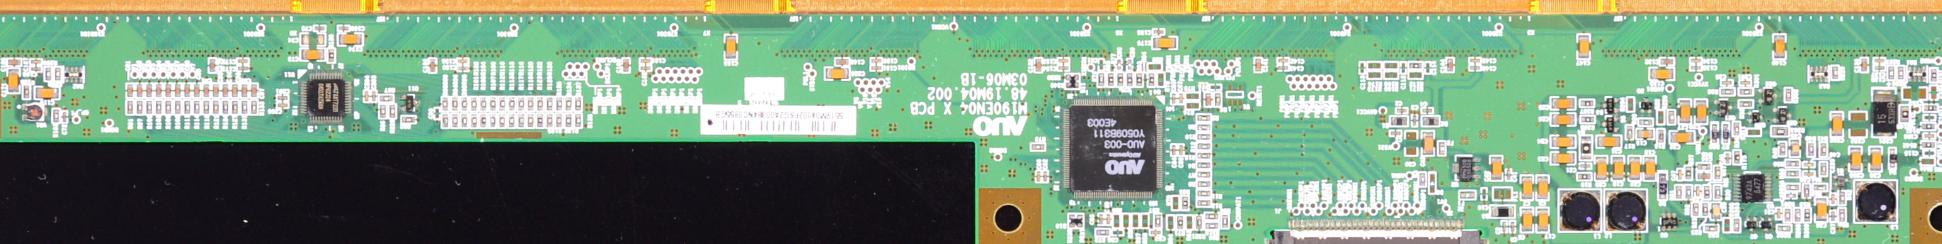Capacitor Jumper: (1829, 113, 1845, 142), (1772, 32, 1787, 62), (1549, 114, 1577, 129), (1577, 33, 1591, 61), (1421, 130, 1434, 159), (1152, 36, 1178, 51), (298, 32, 326, 46), (1849, 147, 1861, 177), (1869, 145, 1880, 177), (1595, 135, 1621, 149), (1610, 155, 1624, 181), (337, 32, 363, 46), (1518, 208, 1533, 232), (1648, 68, 1676, 81), (1551, 152, 1575, 166), (1814, 199, 1828, 224), (1549, 98, 1575, 110), (1629, 156, 1641, 182), (1537, 173, 1549, 199), (1521, 175, 1533, 201), (1536, 208, 1548, 234), (1678, 99, 1692, 123), (1694, 100, 1708, 124), (1644, 159, 1656, 183), (1489, 156, 1501, 180), (1549, 135, 1575, 146), (1595, 156, 1606, 181), (298, 50, 323, 61), (6, 68, 16, 92), (1790, 139, 1801, 157), (1670, 131, 1693, 140), (33, 88, 52, 98), (1635, 130, 1653, 139), (427, 57, 436, 74), (1660, 57, 1674, 67), (234, 54, 250, 63), (182, 84, 192, 98), (1697, 172, 1710, 182), (207, 58, 216, 73), (1095, 211, 1104, 225), (6, 58, 22, 66), (1860, 57, 1868, 73), (1255, 58, 1262, 74), (1445, 58, 1454, 72), (163, 83, 172, 97), (145, 83, 154, 97), (135, 83, 144, 97), (239, 84, 248, 98), (59, 111, 68, 125), (1274, 57, 1292, 63), (1873, 64, 1885, 73), (1719, 78, 1733, 85), (230, 83, 238, 97), (125, 84, 133, 98), (370, 88, 377, 104), (455, 58, 469, 64), (1205, 93, 1211, 108), (1411, 115, 1418, 128), (1177, 144, 1184, 156), (1725, 154, 1733, 166), (1034, 171, 1042, 183), (1693, 186, 1700, 198), (1104, 213, 1111, 225), (1509, 220, 1515, 235), (1469, 57, 1483, 63), (1871, 57, 1885, 63), (1689, 64, 1703, 71), (212, 83, 218, 97), (220, 83, 227, 97), (155, 84, 161, 98), (1921, 133, 1935, 139), (1501, 220, 1507, 234), (1277, 63, 1288, 71), (1357, 62, 1365, 73), (173, 85, 181, 97), (275, 102, 286, 109), (28, 58, 41, 64), (456, 66, 468, 72), (203, 84, 209, 97), (1395, 107, 1407, 113), (1802, 172, 1814, 178), (1829, 212, 1835, 224), (1421, 108, 1435, 113), (1116, 59, 1122, 71), (1126, 59, 1132, 71), (31, 66, 42, 72), (363, 92, 369, 103), (1177, 93, 1183, 104), (313, 25, 324, 31), (338, 25, 349, 31), (1688, 58, 1702, 63), (235, 67, 249, 72), (250, 84, 255, 98), (1831, 193, 1835, 207), (1470, 64, 1480, 71), (1426, 62, 1430, 74), (1739, 81, 1751, 85), (277, 95, 287, 102), (1172, 92, 1177, 104), (1388, 131, 1401, 136), (1172, 144, 1177, 156), (1805, 162, 1814, 168), (1677, 170, 1683, 180), (1043, 171, 1048, 183), (194, 84, 199, 95), (1149, 230, 1160, 235), (1580, 163, 1590, 168), (1401, 62, 1404, 73)
IC: (1063, 98, 1163, 198), (298, 71, 352, 128), (1733, 173, 1770, 202), (1456, 156, 1480, 182)
Resistor Jumper: (725, 35, 738, 59), (825, 67, 847, 81), (1770, 126, 1788, 137), (620, 57, 630, 76), (1776, 141, 1786, 157), (542, 114, 554, 128), (504, 114, 515, 128), (21, 85, 31, 100), (458, 98, 468, 111), (327, 47, 334, 64), (1738, 88, 1753, 97), (487, 113, 495, 128), (572, 97, 582, 109), (172, 102, 182, 114), (1897, 64, 1905, 81), (1720, 88, 1736, 95), (401, 115, 417, 123), (1625, 125, 1632, 141), (1656, 129, 1663, 145), (1195, 162, 1211, 170), (1819, 161, 1827, 177), (1785, 183, 1801, 191), (1033, 58, 1042, 72), (246, 100, 255, 114), (211, 100, 219, 114), (125, 102, 134, 115), (388, 105, 396, 119), (459, 114, 468, 128), (515, 114, 524, 128), (1639, 118, 1652, 126), (1195, 123, 1209, 131), (1807, 141, 1816, 155), (1713, 187, 1722, 201), (1205, 223, 1219, 232), (1055, 58, 1070, 66), (1888, 67, 1895, 82), (379, 94, 394, 102), (468, 99, 478, 110), (524, 99, 534, 110), (220, 99, 228, 114), (1579, 116, 1594, 124), (573, 114, 581, 129), (524, 115, 534, 126), (1030, 144, 1045, 151), (1819, 142, 1827, 157), (1196, 152, 1211, 160), (1696, 162, 1710, 170), (1812, 185, 1827, 192), (1803, 185, 1811, 199), (1704, 186, 1712, 201), (1803, 208, 1811, 223), (495, 98, 504, 110), (162, 102, 171, 114), (144, 102, 152, 114), (154, 103, 162, 115), (534, 115, 542, 128), (497, 116, 505, 129), (1786, 159, 1798, 167), (639, 64, 653, 72), (1783, 88, 1791, 102), (1580, 100, 1594, 108), (192, 100, 199, 114), (230, 100, 238, 114), (135, 102, 142, 115), (379, 104, 386, 118), (1196, 114, 1210, 121), (1667, 111, 1674, 125), (1715, 166, 1723, 180), (1221, 213, 1229, 227), (1703, 225, 1717, 233), (1096, 229, 1110, 237), (240, 102, 249, 113), (182, 103, 191, 114), (564, 114, 572, 125), (1733, 152, 1741, 163), (1692, 204, 1700, 216), (441, 97, 447, 111), (479, 98, 487, 110), (488, 99, 495, 111), (469, 114, 477, 126), (1198, 133, 1210, 140), (1198, 142, 1210, 150), (1198, 171, 1210, 178), (1577, 175, 1591, 181), (1180, 197, 1188, 209), (1199, 201, 1211, 208), (1838, 211, 1845, 223), (507, 99, 515, 109), (869, 64, 883, 71), (1056, 64, 1070, 71), (45, 67, 51, 81), (54, 68, 61, 82), (1932, 68, 1938, 82), (203, 102, 209, 115), (52, 109, 58, 123), (1684, 167, 1691, 181), (1196, 182, 1210, 188), (1702, 203, 1708, 217), (1785, 208, 1791, 222), (1177, 216, 1183, 229), (1733, 218, 1739, 232), (1776, 225, 1790, 232), (1369, 71, 1380, 78), (478, 116, 485, 128), (1922, 107, 1938, 111), (1839, 191, 1844, 207), (639, 57, 651, 63), (835, 58, 847, 64), (1832, 66, 1838, 78), (452, 98, 458, 110), (1921, 123, 1933, 129), (1786, 171, 1798, 177), (1198, 191, 1210, 197), (1205, 213, 1217, 219), (564, 99, 571, 109), (1674, 187, 1682, 197), (1409, 72, 1421, 78), (556, 115, 562, 126), (869, 57, 883, 62), (1366, 62, 1380, 67), (1383, 73, 1397, 78), (536, 100, 544, 109), (556, 98, 561, 110), (518, 99, 524, 109), (442, 114, 447, 126), (452, 114, 457, 126), (1921, 142, 1933, 147), (1684, 187, 1689, 199), (1195, 218, 1201, 228), (1795, 209, 1800, 220), (1154, 216, 1159, 227), (1385, 63, 1395, 68), (545, 99, 550, 109)
Transistor: (1658, 212, 1678, 233), (399, 94, 417, 111), (1600, 97, 1618, 114), (1760, 88, 1777, 104), (1772, 108, 1792, 121), (1717, 99, 1731, 115), (1601, 115, 1616, 130), (1760, 218, 1774, 234), (1639, 95, 1651, 113), (1745, 217, 1757, 234), (1748, 110, 1762, 121)
